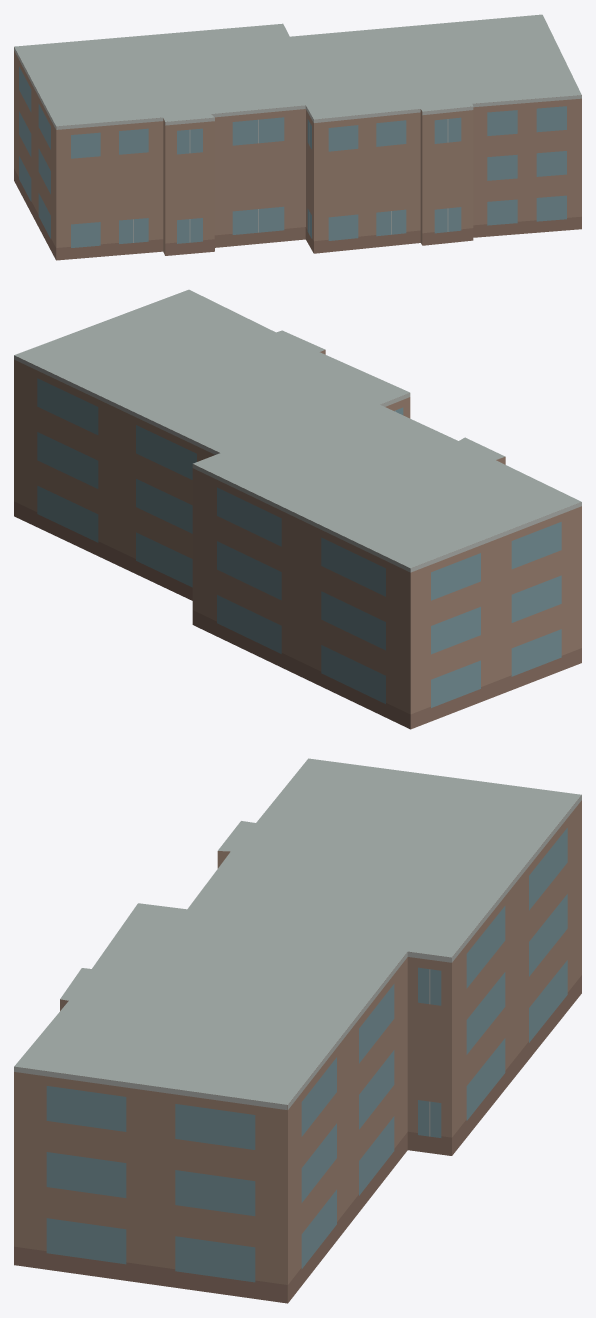
The model's file is survey-upis-32628218.glb.
The picture shows the model from 3 angles, top to bottom: view 1: azimuth 30°, elevation 25°; view 2: azimuth 150°, elevation 25°; view 3: azimuth 270°, elevation 25°; orthographic projection. The views are drawn at different scales.
Visible parts, largest first — view 1: survey-upis-32628218.tmp; view 2: survey-upis-32628218.tmp; view 3: survey-upis-32628218.tmp.
Part boxes in pixels (<box>): survey-upis-32628218.tmp: <box>14,14,581,260</box>; survey-upis-32628218.tmp: <box>14,289,581,729</box>; survey-upis-32628218.tmp: <box>14,758,581,1303</box>.
Size of the model in its own units: 34.26 by 9.15 by 23.72.
